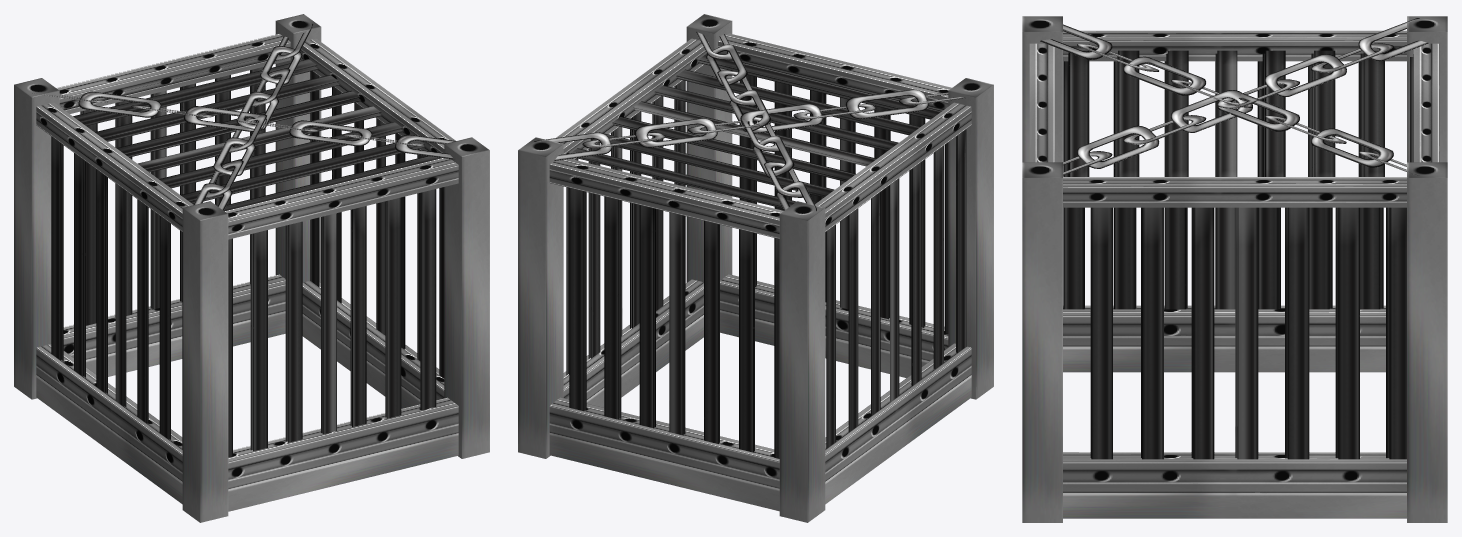
File: item_prison.FBX
The picture shows the model from 3 angles, left to right: view 1: azimuth 30°, elevation 25°; view 2: azimuth 150°, elevation 25°; view 3: azimuth 270°, elevation 25°; orthographic projection. The views are drawn at different scales.
Parts seen in each view (by area): view 1: prison mini; view 2: prison mini; view 3: prison mini.
Part boxes in pixels (x1,y1,x2,y2): prison mini: [14, 14, 489, 522]; prison mini: [518, 14, 993, 522]; prison mini: [1022, 16, 1447, 522].
Bounding box in the file's own units: 0.1597 × 0.1565 × 0.1743.
